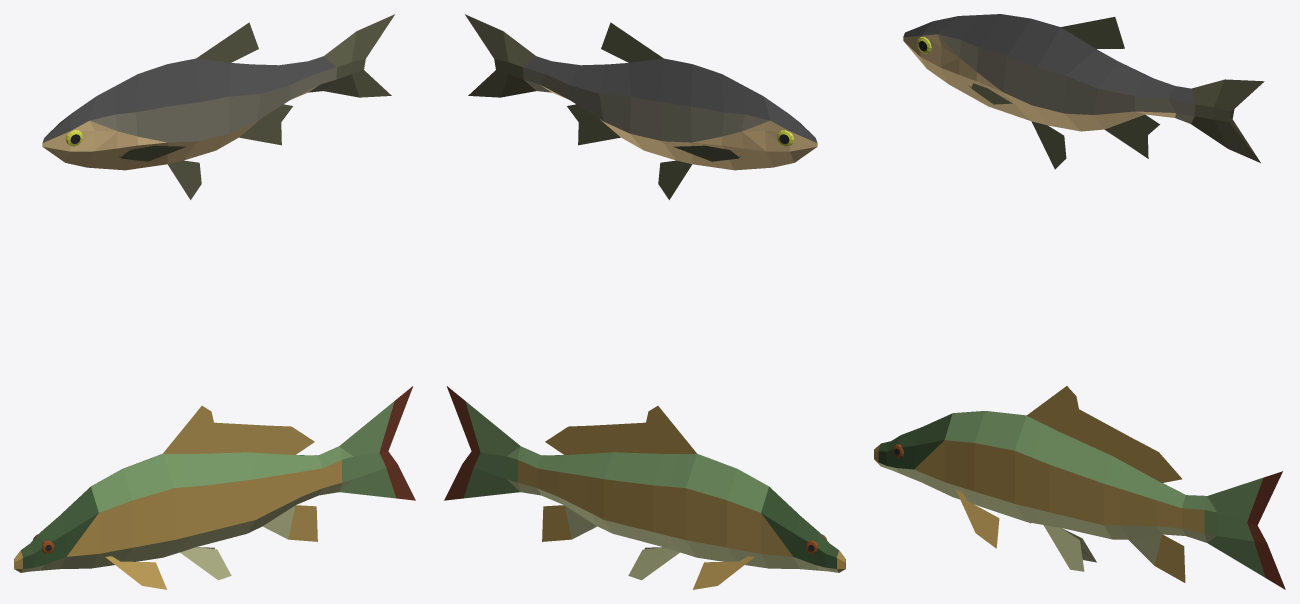
The model's file is Karp.fbx.
3 renders of one model, left to right at view 1: azimuth 30°, elevation 25°; view 2: azimuth 150°, elevation 25°; view 3: azimuth 330°, elevation 25°, orthographic. The views are drawn at different scales.
Parts seen in each view (by area): view 1: Cylinder, Azurine, Plane; view 2: Cylinder, Azurine, Plane, Fish_Karp; view 3: Cylinder, Azurine, Plane.
Boxes of the visible parts, <box> form: Cylinder: <box>14,386,415,580</box>; Azurine: <box>42,14,394,199</box>; Plane: <box>105,556,166,589</box>; Cylinder: <box>444,386,845,580</box>; Azurine: <box>465,14,817,199</box>; Plane: <box>693,556,754,589</box>; Fish_Karp: <box>448,387,844,562</box>; Cylinder: <box>874,386,1285,589</box>; Azurine: <box>903,14,1264,169</box>; Plane: <box>956,489,999,548</box>.
Bounding box in the file's own units: 26.12 × 33.83 × 4.23.
